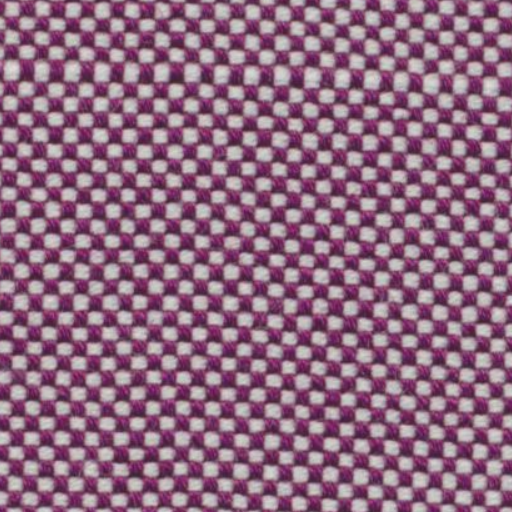TuoSha: (8, 43, 497, 118)
